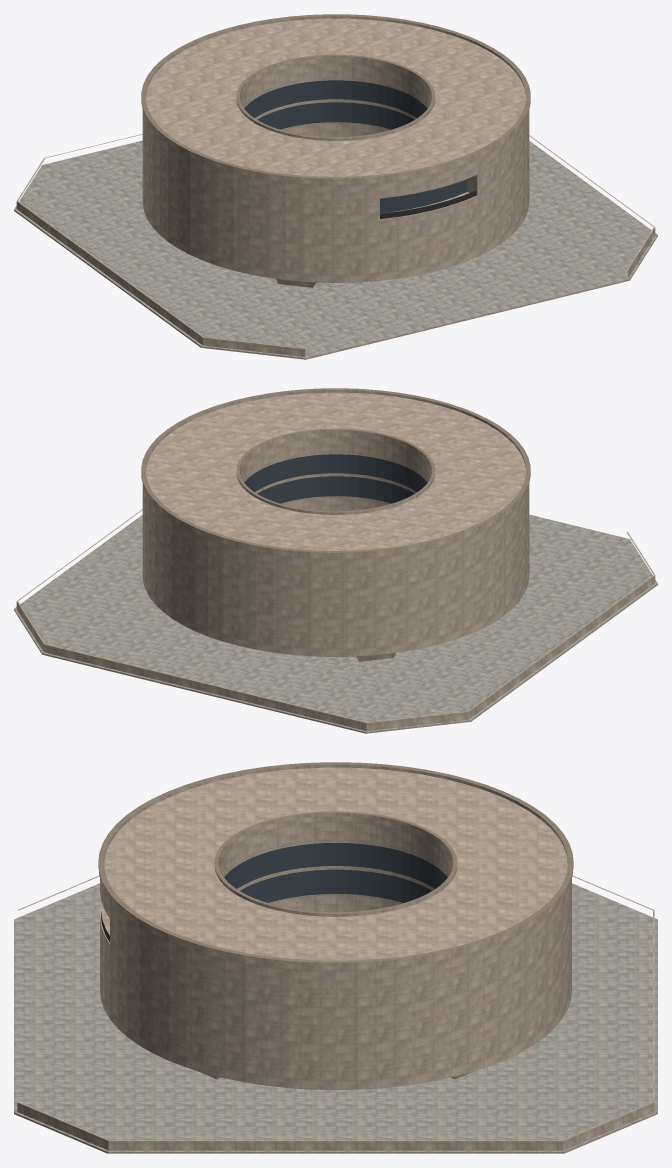
File: hirshhorn_museum.glb
3 views of the same model, one above another, from view 1: azimuth 30°, elevation 25°; view 2: azimuth 150°, elevation 25°; view 3: azimuth 270°, elevation 25° (orthographic). The views are drawn at different scales.
Parts seen in each view (by area): view 1: hirshhorn_museum; view 2: hirshhorn_museum; view 3: hirshhorn_museum.
Part boxes in pixels (x1,y1,x2,y2): hirshhorn_museum: (14, 14, 657, 359); hirshhorn_museum: (14, 388, 657, 733); hirshhorn_museum: (14, 762, 657, 1153).
Bounding box in the file's own units: 96 × 25.5 × 96.
Materials: 3 (3 with a texture image).
